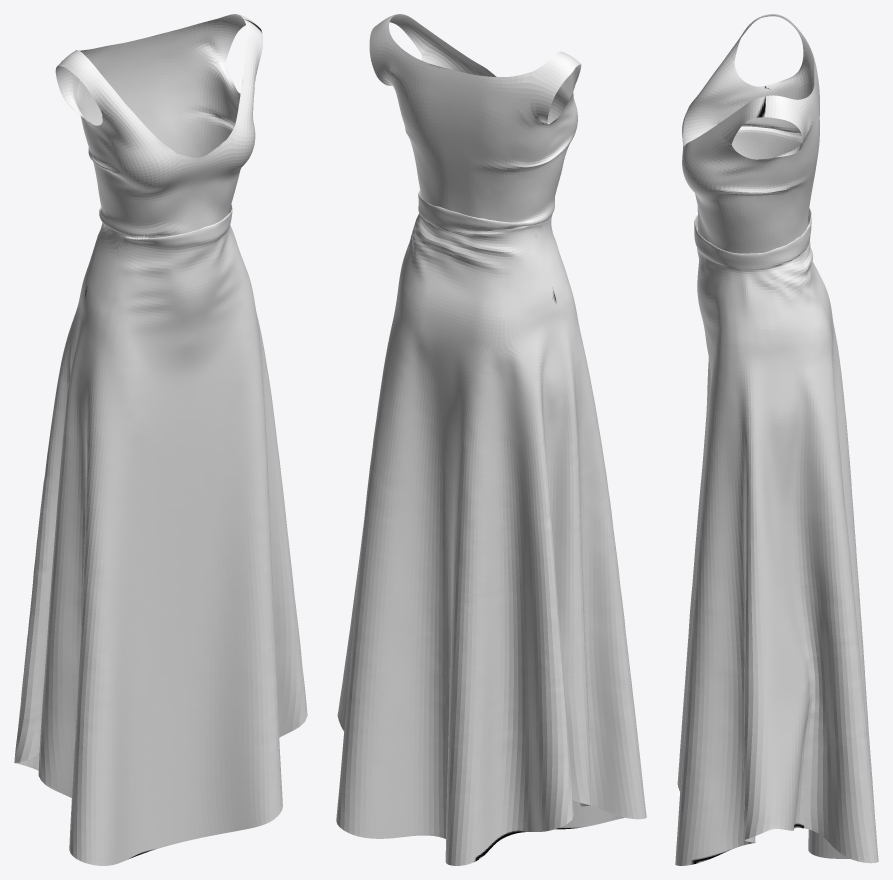
File: dress.fbx
The picture shows the model from 3 angles, left to right: view 1: azimuth 30°, elevation 25°; view 2: azimuth 150°, elevation 25°; view 3: azimuth 270°, elevation 25°; orthographic projection. The views are drawn at different scales.
Visible parts, largest first — view 1: obj_dress02_3:Group32645; view 2: obj_dress02_3:Group32645; view 3: obj_dress02_3:Group32645.
Boxes of the visible parts, <box> form: obj_dress02_3:Group32645: <box>14,14,307,865</box>; obj_dress02_3:Group32645: <box>336,14,646,865</box>; obj_dress02_3:Group32645: <box>675,14,878,865</box>.
Size of the model in its own units: 53.34 by 152 by 34.99.
